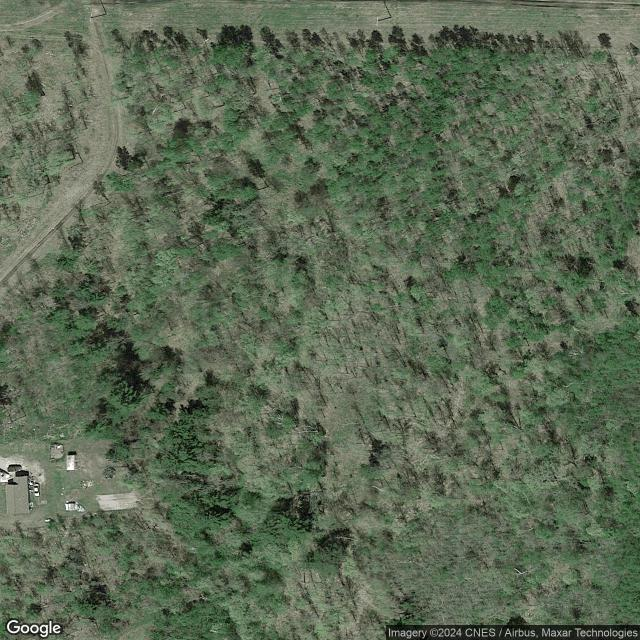Propane: (44, 518, 55, 523)
